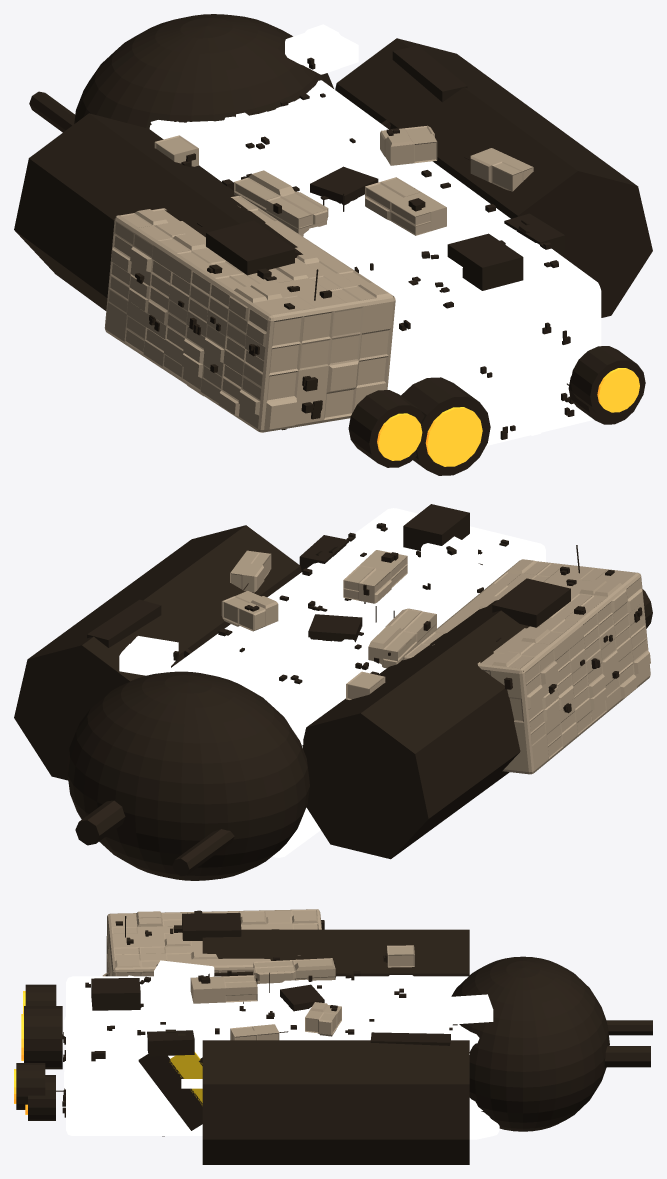
The model's file is raxxan_large.glb.
3 views of the same model, one above another, from view 1: azimuth 30°, elevation 25°; view 2: azimuth 150°, elevation 25°; view 3: azimuth 270°, elevation 25° (orthographic). The views are drawn at different scales.
Visible parts, largest first — view 1: raxxan_large; view 2: raxxan_large; view 3: raxxan_large.
Boxes of the visible parts, x1,y1,x2,y2 form: raxxan_large: [14, 14, 652, 475]; raxxan_large: [14, 504, 652, 880]; raxxan_large: [14, 909, 652, 1164].
Size of the model in its own units: 6.26 by 2.78 by 10.
